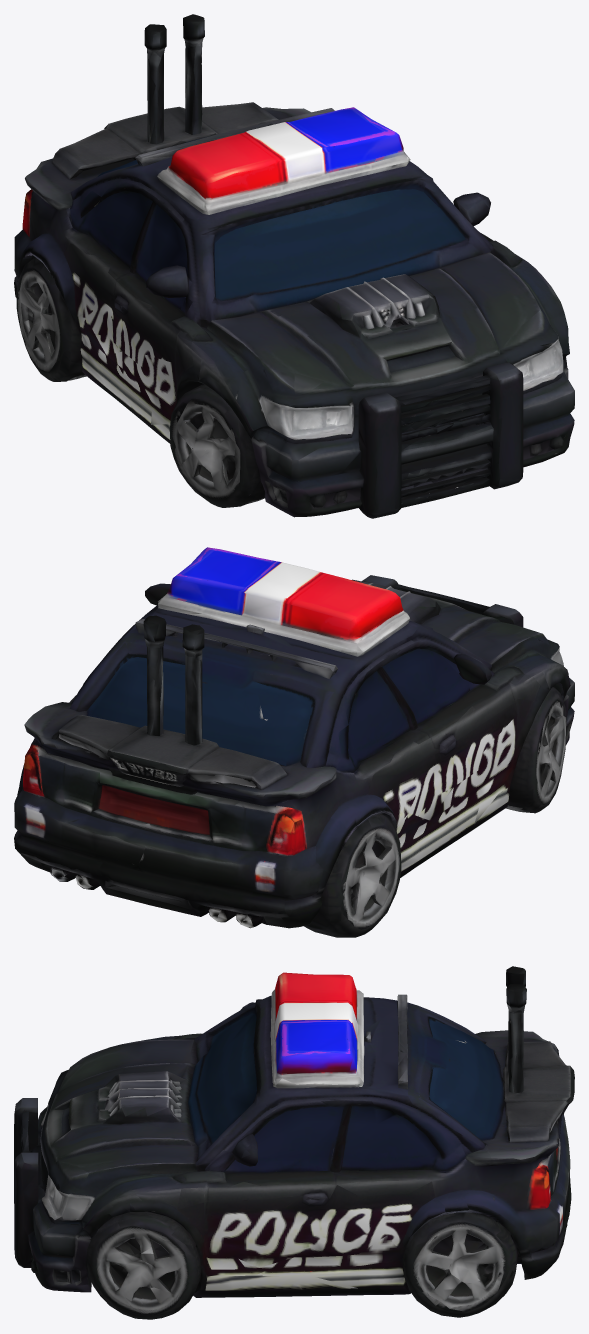
The model's file is polizei.glb.
3 renders of one model, top to bottom at view 1: azimuth 30°, elevation 25°; view 2: azimuth 150°, elevation 25°; view 3: azimuth 270°, elevation 25°, orthographic. The views are drawn at different scales.
Parts seen in each view (by area): view 1: polizei; view 2: polizei; view 3: polizei.
Part boxes in pixels (x1,y1,x2,y2): polizei: (14, 14, 574, 518); polizei: (14, 547, 574, 937); polizei: (14, 966, 574, 1319).
Size of the model in its own units: 1.03 by 0.7939 by 1.5.
1 material, 1 textured.
